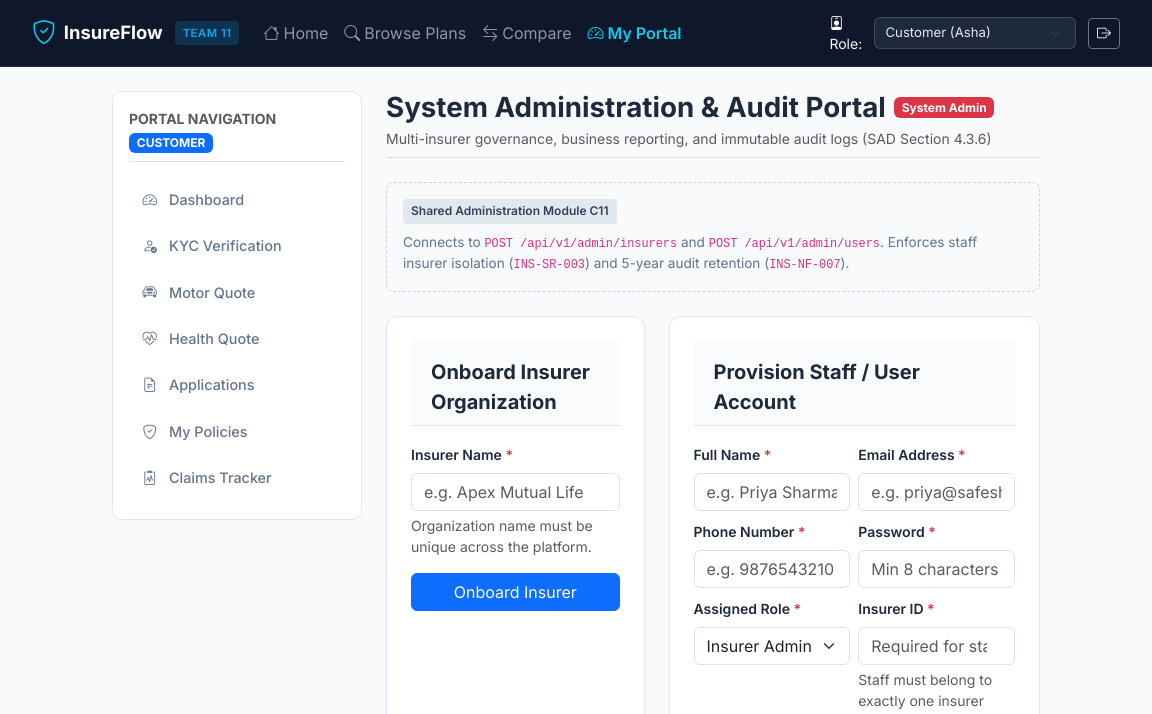
Test: SystemAdminDashboardView (P2-11 / SAD §4.3.6 / INS-SR-003) › displays conflict error when insurer name is duplicated (409 Conflict)
In the field labelled "Insurer Name *": [515, 492] box 411,473 -> 620,511, type "Duplicate Insurer"
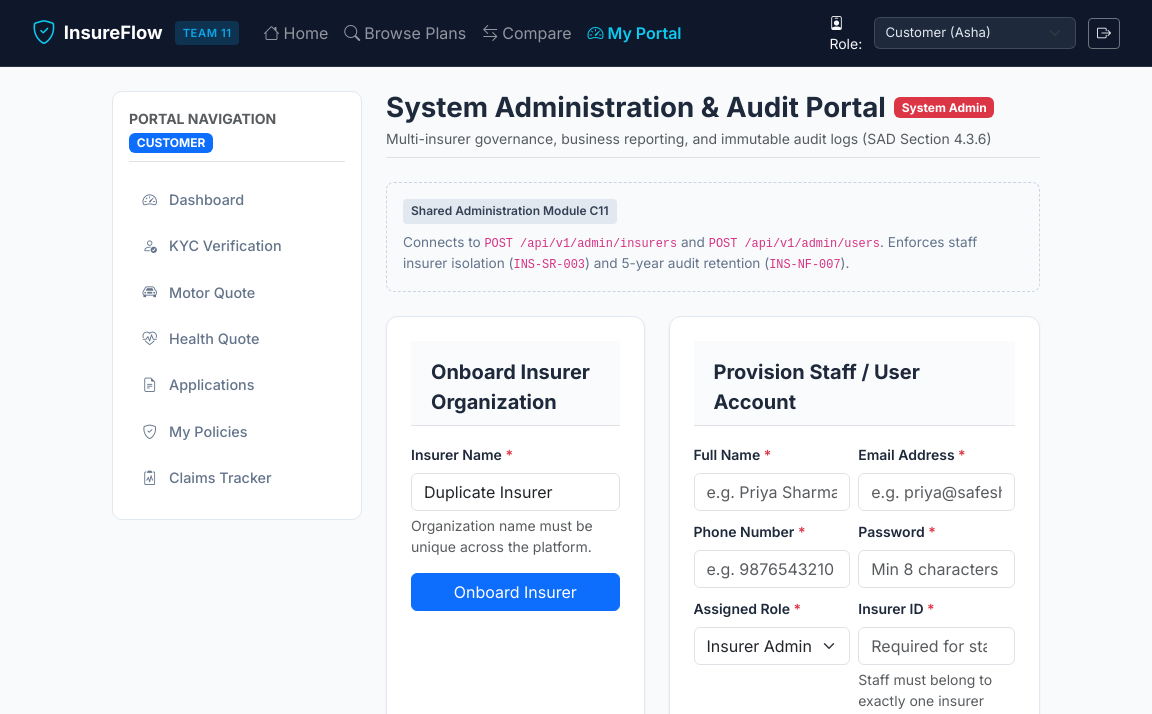
Click the button "Onboard Insurer": [515, 592] box 411,573 -> 620,611
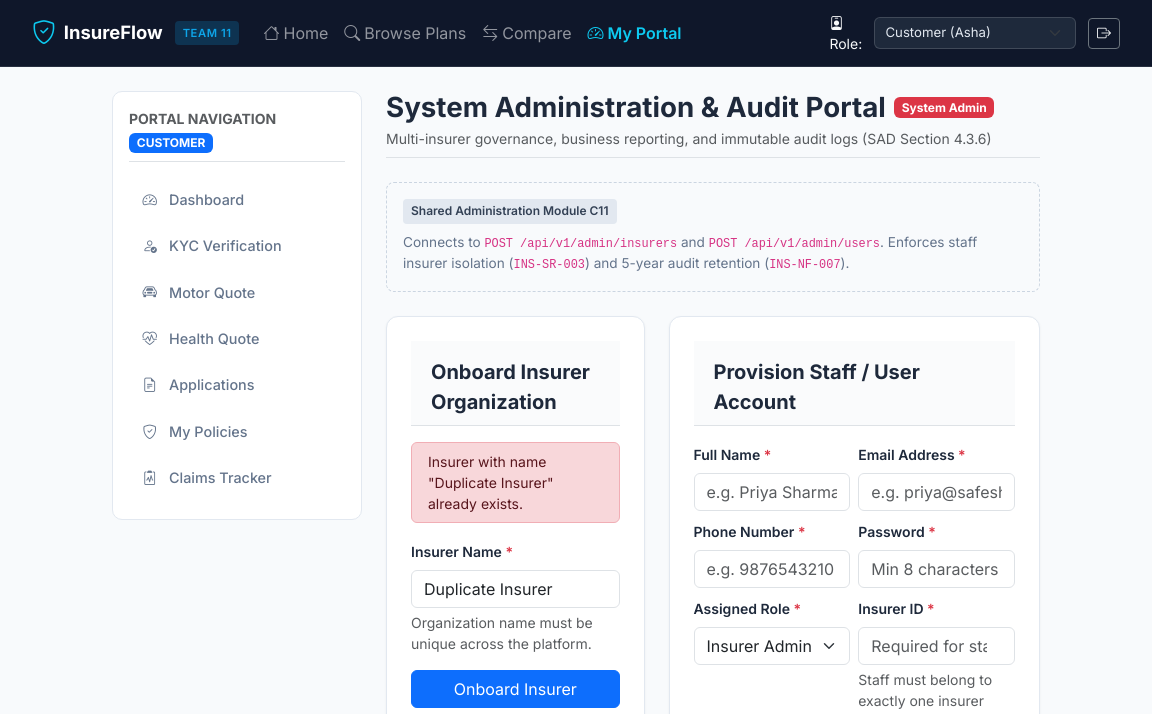
Check: the text "Insurer with name \"Duplicate Insurer\" already exists." is shown, box 411,442 -> 620,523
